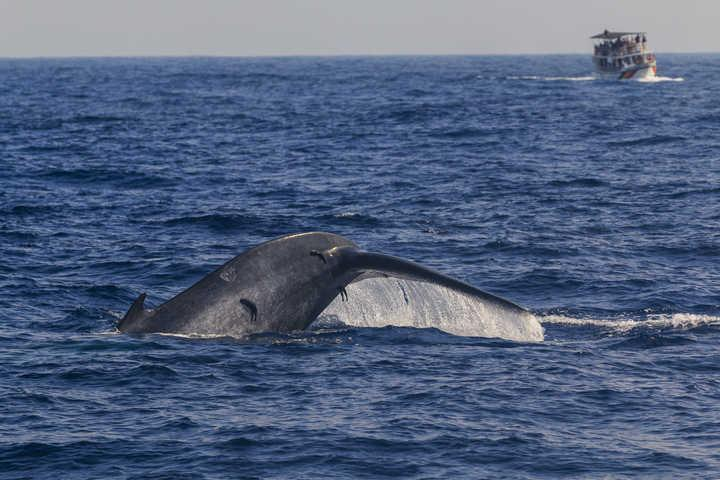fish: (104, 227, 574, 349)
